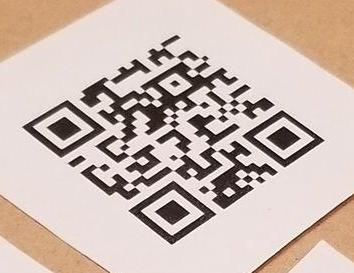qrcode: (23, 34, 326, 245)
